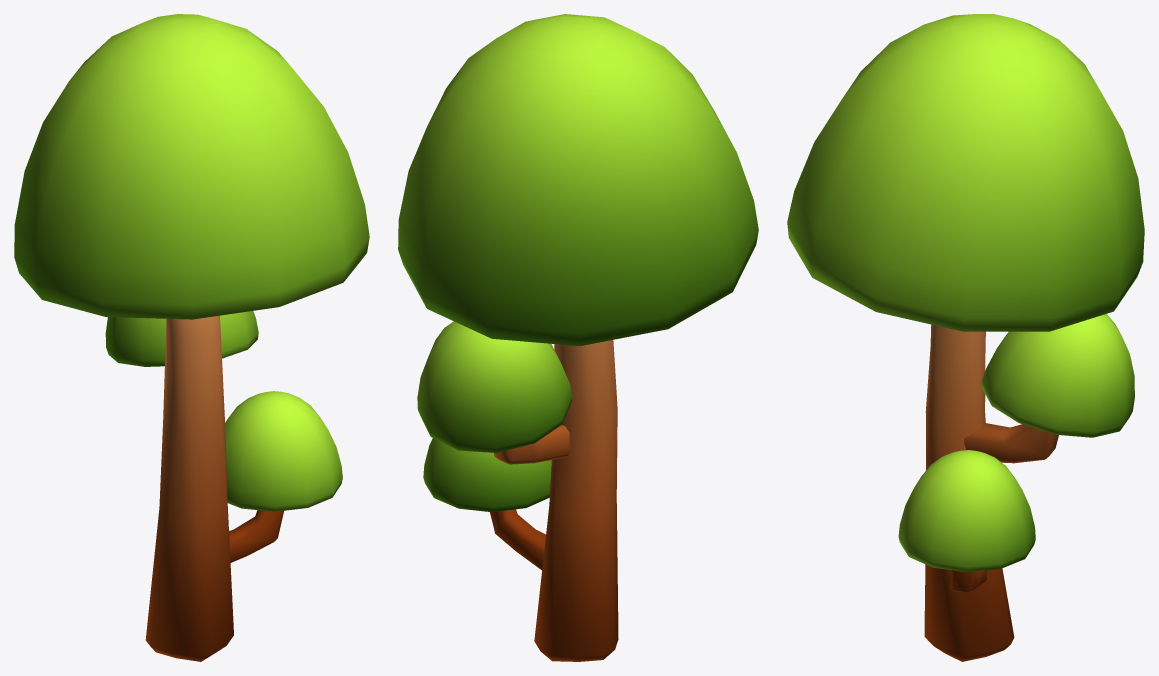
The model's file is SphTree.fbx.
The picture shows the model from 3 angles, left to right: view 1: azimuth 30°, elevation 25°; view 2: azimuth 150°, elevation 25°; view 3: azimuth 270°, elevation 25°; orthographic projection.
Parts seen in each view (by area): view 1: treevar2.1; view 2: treevar2.1; view 3: treevar2.1.
Part boxes in pixels (x1,y1,x2,y2): treevar2.1: [14, 14, 369, 661]; treevar2.1: [398, 14, 758, 661]; treevar2.1: [787, 14, 1144, 661].
Bounding box in the file's own units: 426 × 816 × 425.
